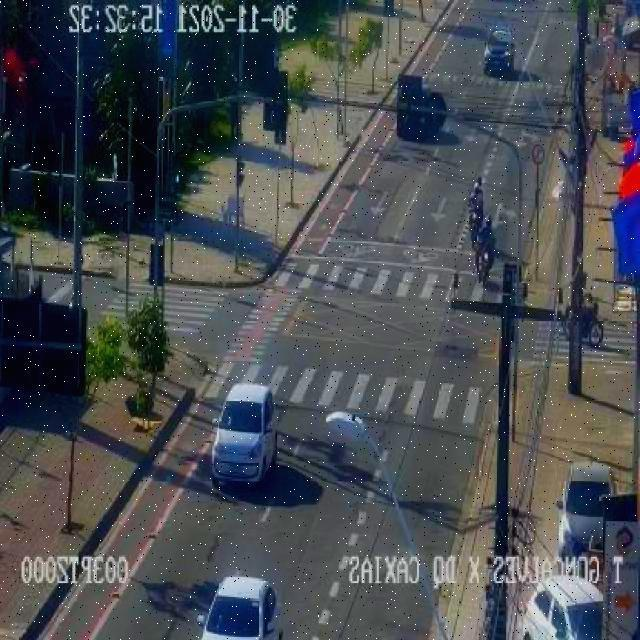Car: (216, 383, 281, 491), (558, 461, 618, 562), (194, 574, 284, 640), (521, 577, 603, 640), (484, 23, 518, 79)
Cycle: (558, 304, 608, 348), (475, 240, 494, 288), (467, 198, 482, 235), (207, 256, 208, 258)
